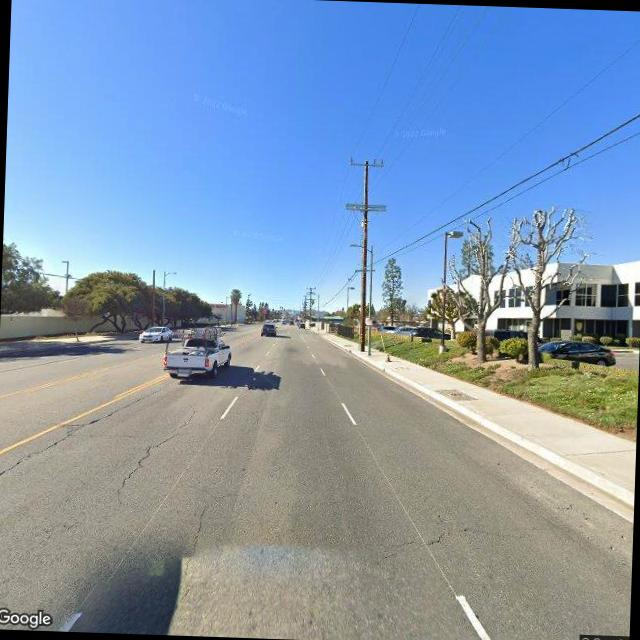crack: (0, 377, 158, 478), (115, 386, 202, 504), (332, 512, 533, 556)
